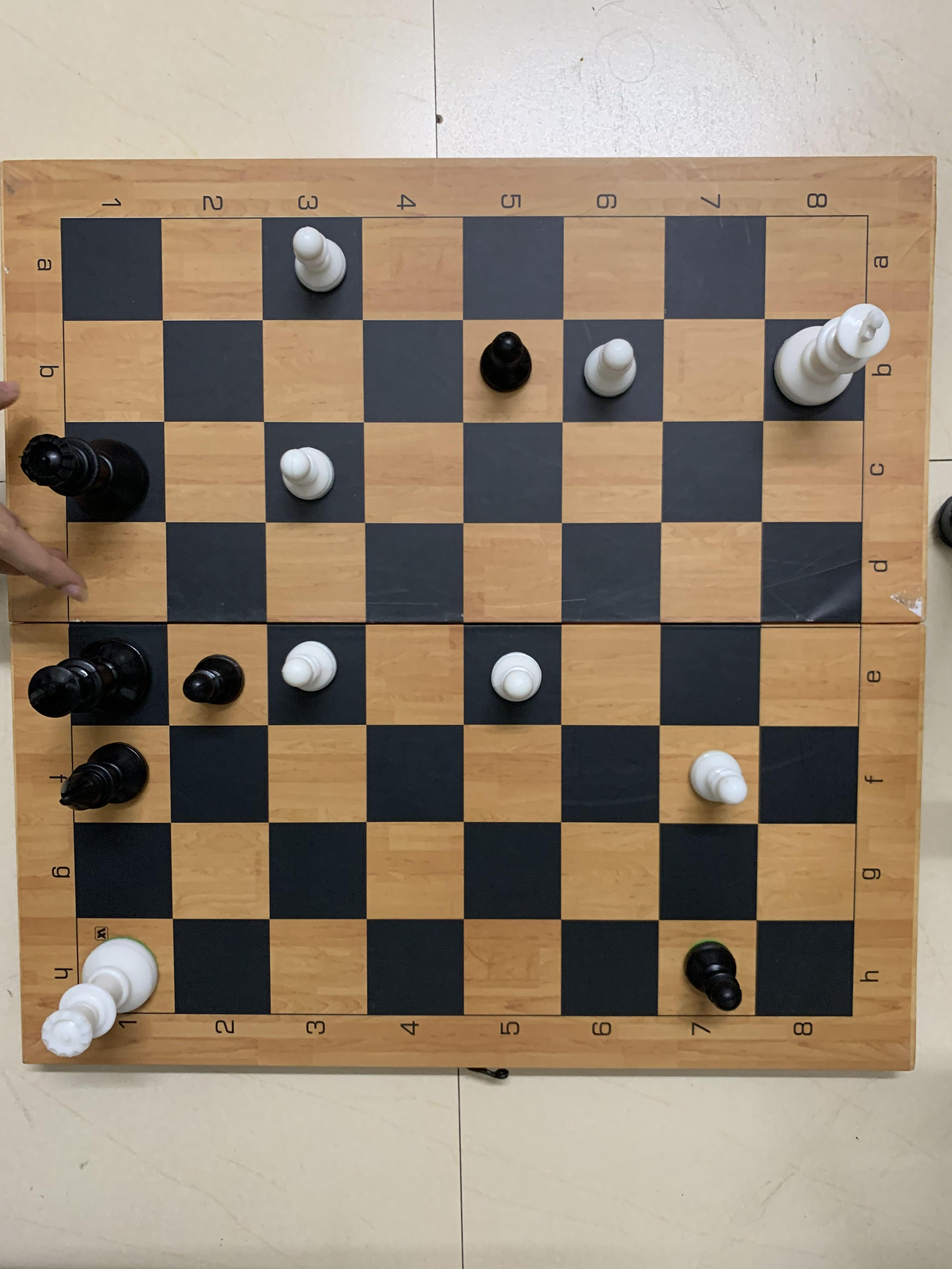black_bishop: (48, 738, 164, 819)
black_king: (18, 629, 159, 724)
black_pawn: (674, 929, 754, 1017), (475, 327, 539, 400), (178, 646, 246, 711)
black_queen: (15, 426, 161, 521)
white_king: (759, 286, 893, 414)
white_pawn: (281, 220, 355, 300), (683, 741, 754, 814), (273, 436, 340, 505), (484, 641, 550, 711), (576, 333, 644, 400), (280, 633, 344, 699)
white_queen: (27, 925, 162, 1059)
